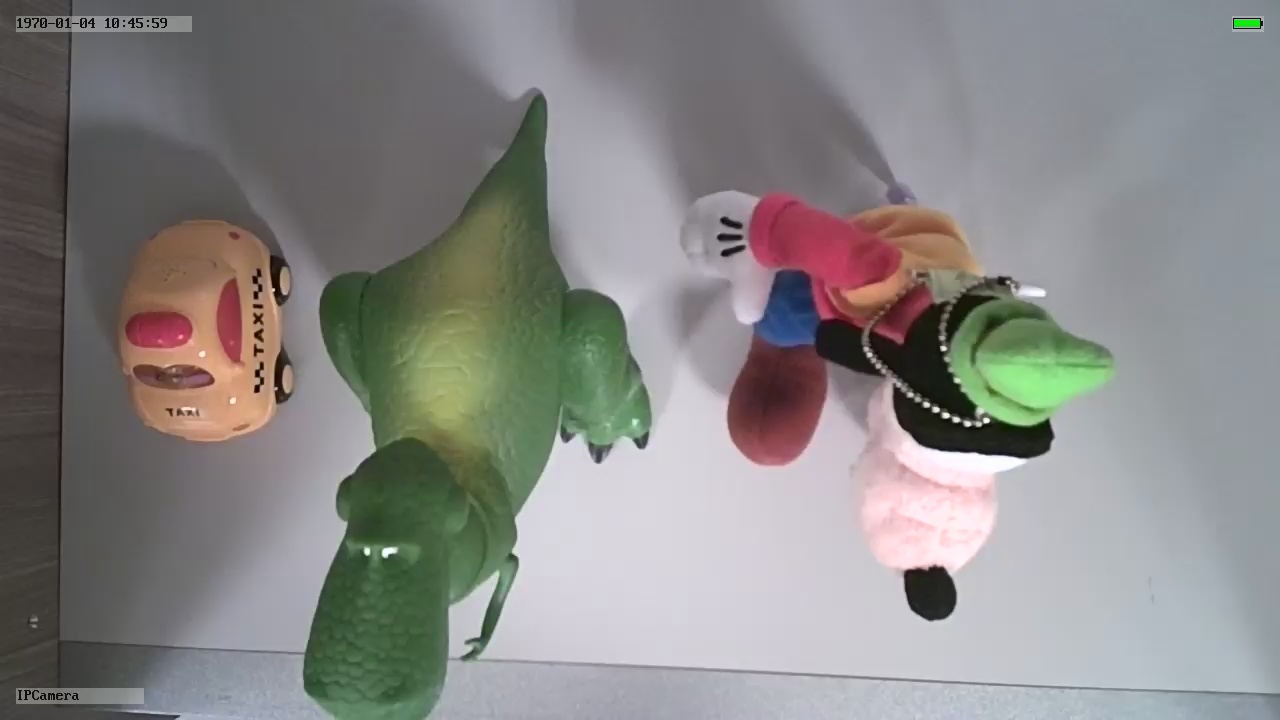car: (113, 207, 297, 445)
goofy: (678, 183, 1115, 637)
rex: (303, 143, 648, 717)
